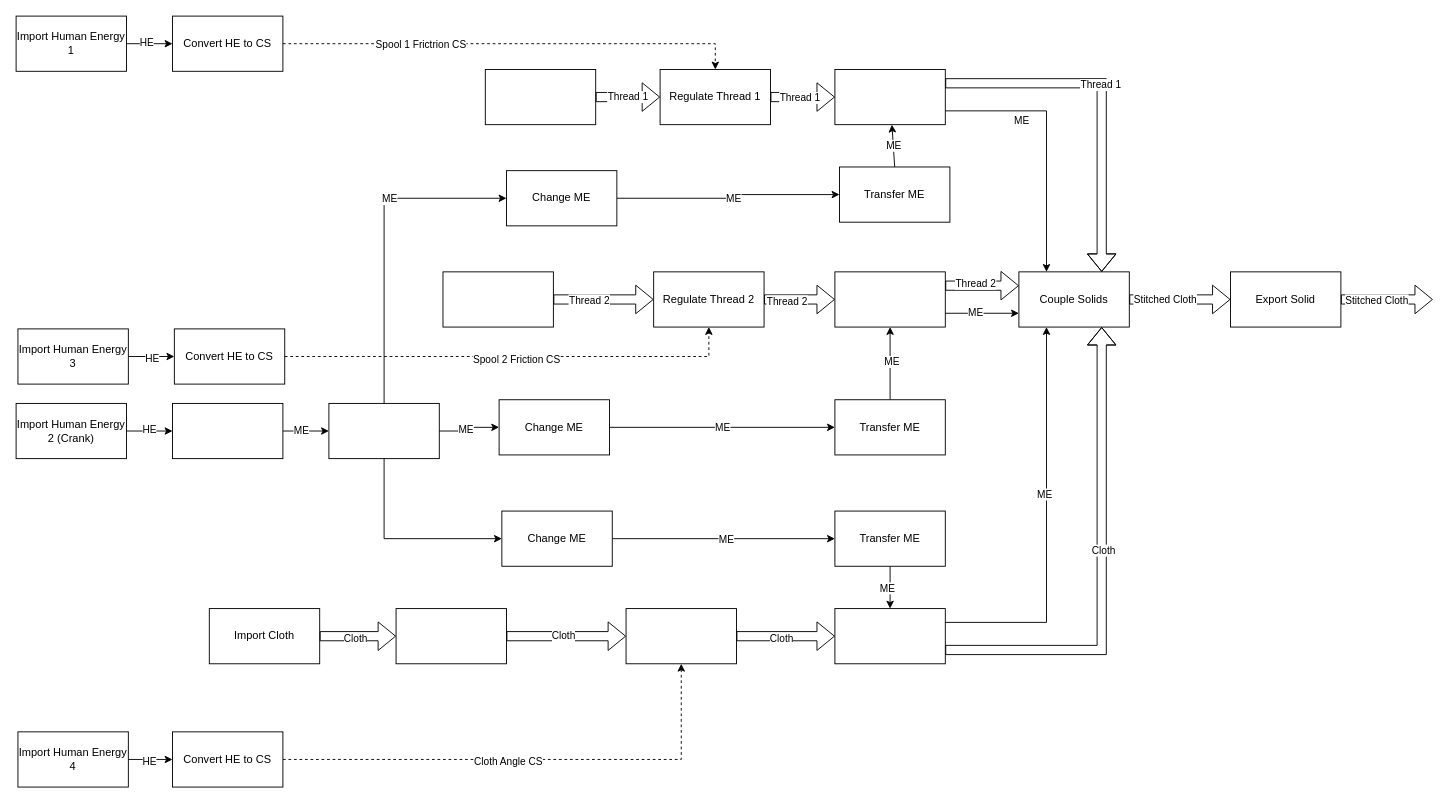
Image size: 1449x803. Some labels were removed from this diagram. Here are the shapes that lost their labels. From the top down, the centre of each, then its label:
[540,97]: Import Thread 1 (Vertical)
[889,97]: Guide Thread 1
[497,299]: Import Thread 2 (Horizontal)
[889,299]: Guide Thread 2
[227,430]: Convert HE to ME
[383,430]: Distribute ME
[450,636]: Stabilize Cloth
[680,636]: Regulate Cloth
[889,636]: Guide Cloth
